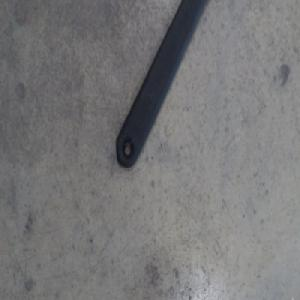AdjustableWrench: (116, 0, 208, 168)
